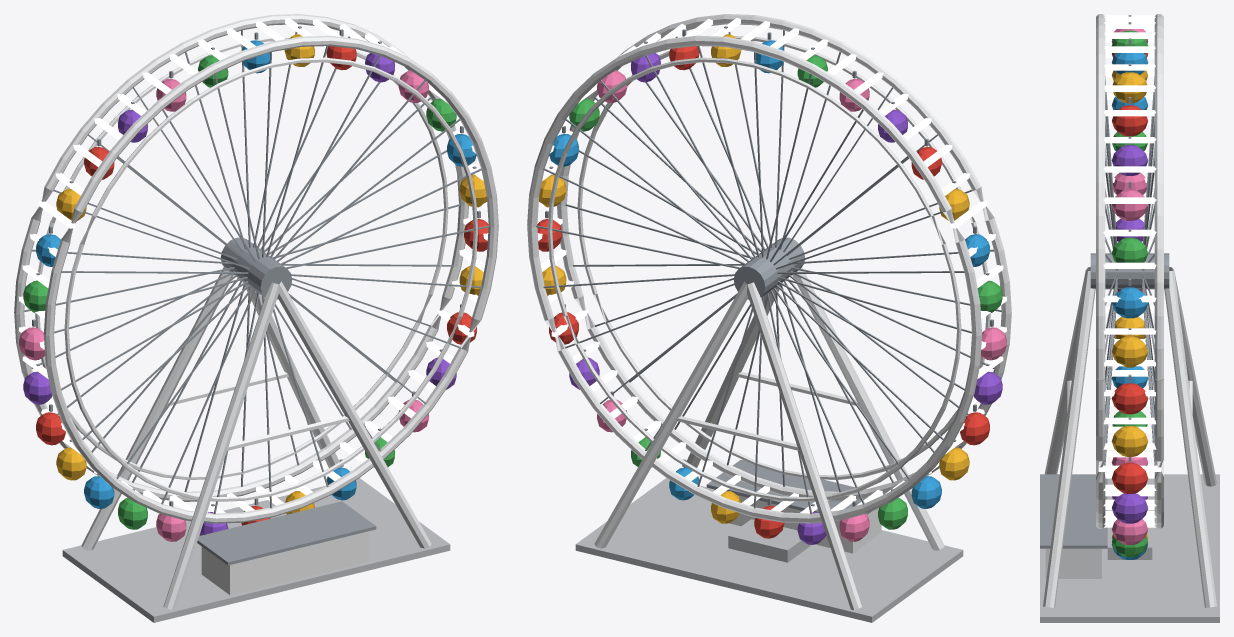
The model's file is noria-suzuka.glb.
The picture shows the model from 3 angles, left to right: view 1: azimuth 30°, elevation 25°; view 2: azimuth 150°, elevation 25°; view 3: azimuth 270°, elevation 25°; orthographic projection.
Parts seen in each view (by area): view 1: noria-suzuka; view 2: noria-suzuka; view 3: noria-suzuka.
Boxes of the visible parts, x1,y1,x2,y2 form: noria-suzuka: (14, 14, 498, 622); noria-suzuka: (527, 14, 1011, 622); noria-suzuka: (1040, 14, 1219, 622).
Bounding box in the file's own units: 47.47 × 50.42 × 16.
